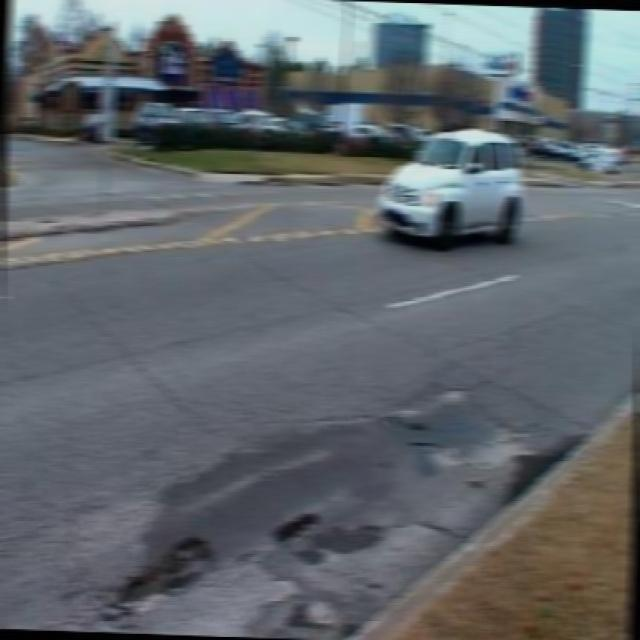Pothole: (109, 533, 222, 611), (368, 406, 456, 462), (280, 600, 347, 632), (269, 505, 317, 549)
